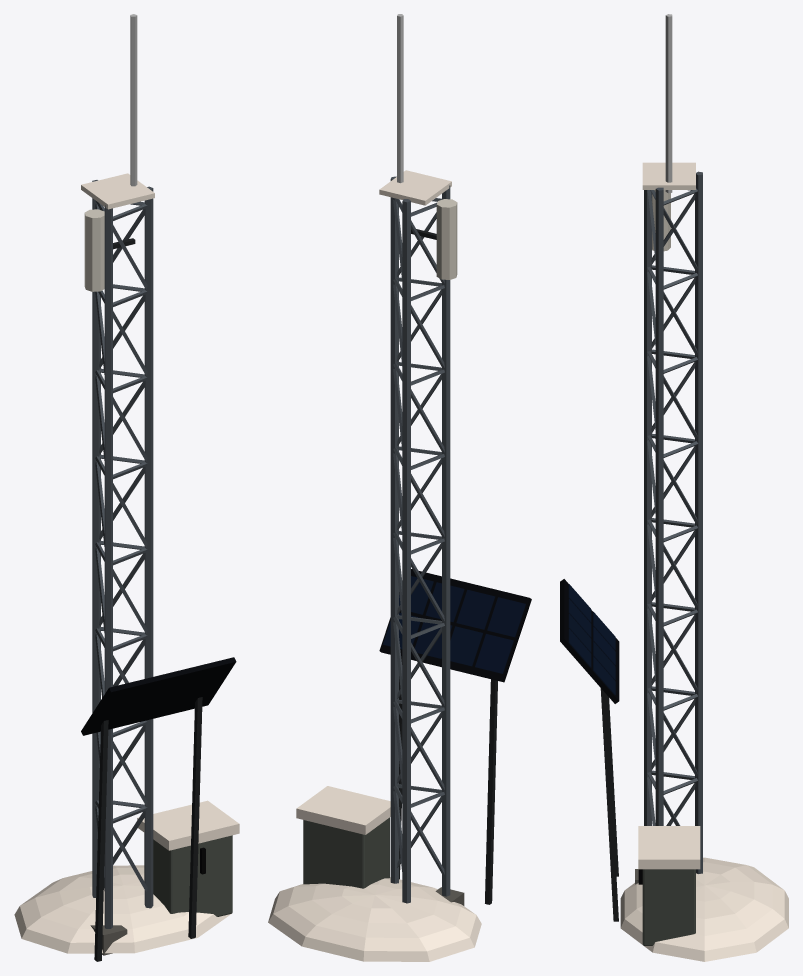
The model's file is rs_repeater.glb.
The picture shows the model from 3 angles, left to right: view 1: azimuth 30°, elevation 25°; view 2: azimuth 150°, elevation 25°; view 3: azimuth 270°, elevation 25°; orthographic projection. The views are drawn at different scales.
Parts seen in each view (by area): view 1: repeater; view 2: repeater; view 3: repeater.
Boxes of the visible parts, x1,y1,x2,y2 form: repeater: [14, 14, 239, 961]; repeater: [268, 14, 531, 961]; repeater: [560, 14, 788, 961].
Bounding box in the file's own units: 2.6 × 11.18 × 2.59.
